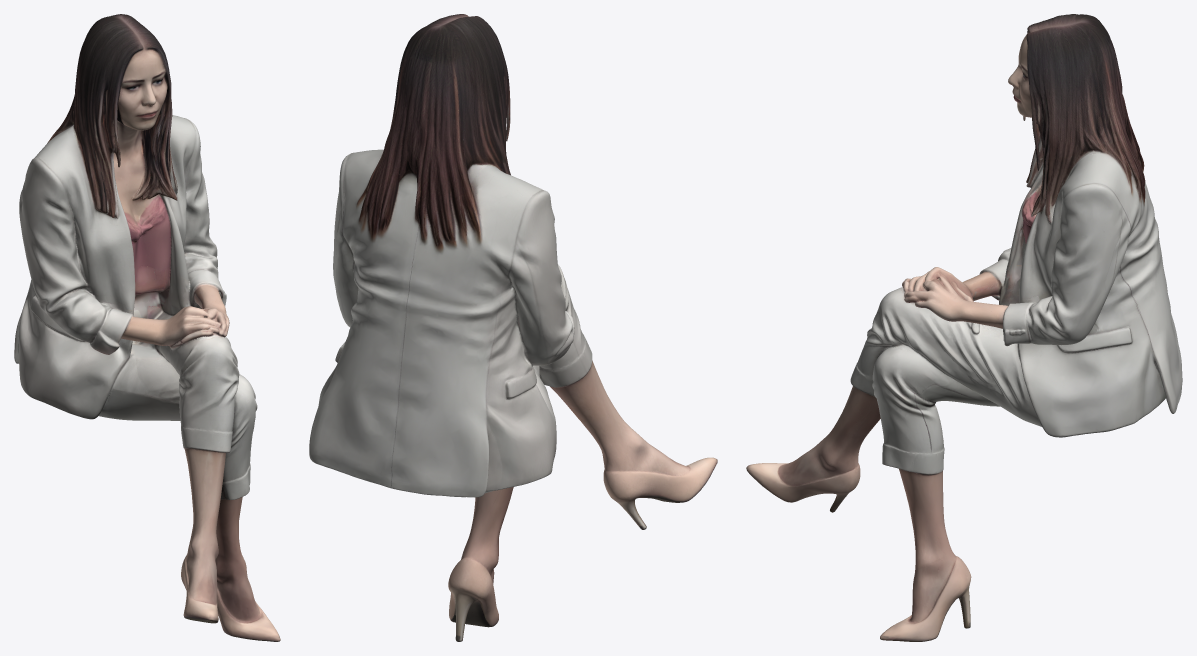
The model's file is Meshy_AI_Executive_in_Beige_Su_0708125732_texture-0c692324-web.glb.
3 renders of one model, left to right at view 1: azimuth 30°, elevation 25°; view 2: azimuth 150°, elevation 25°; view 3: azimuth 270°, elevation 25°, orthographic. The views are drawn at different scales.
Bounding box in the file's own units: 0.6373 × 1.9 × 1.28.
Materials: 1 (1 with a texture image).
